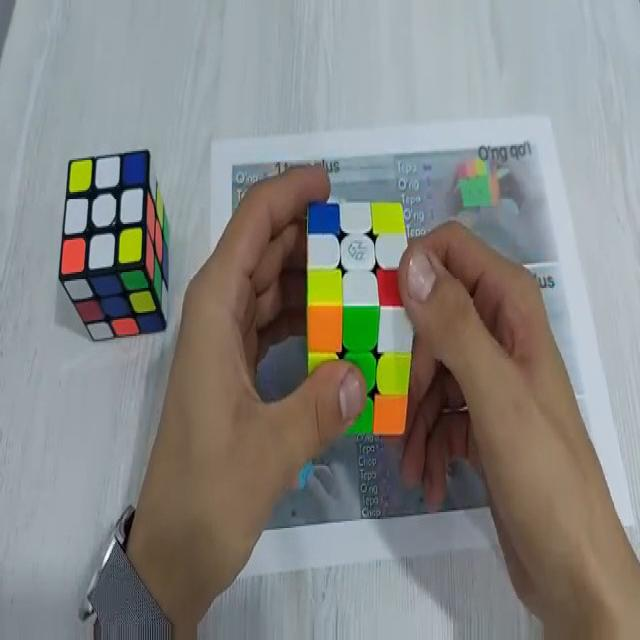Rub: (304, 197, 416, 441), (59, 147, 170, 343)
